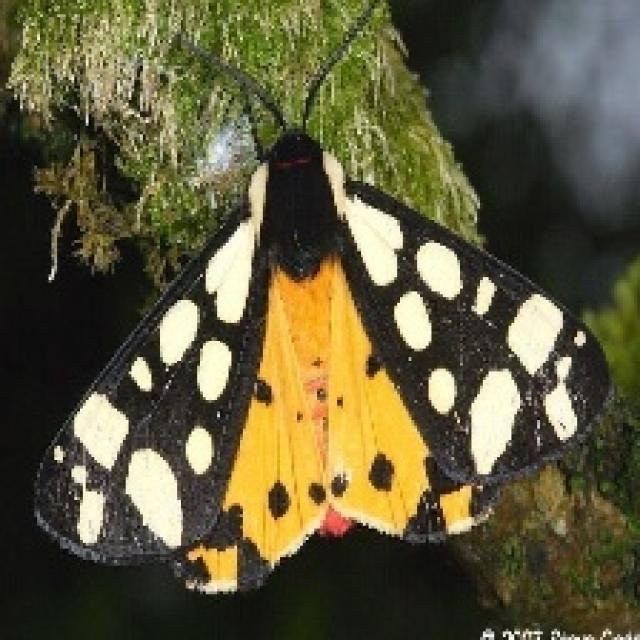butterfly: (28, 0, 614, 594)
